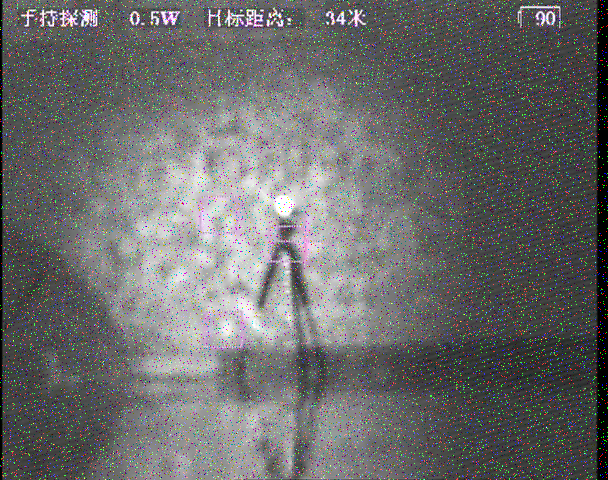my: (272, 194, 295, 218)
